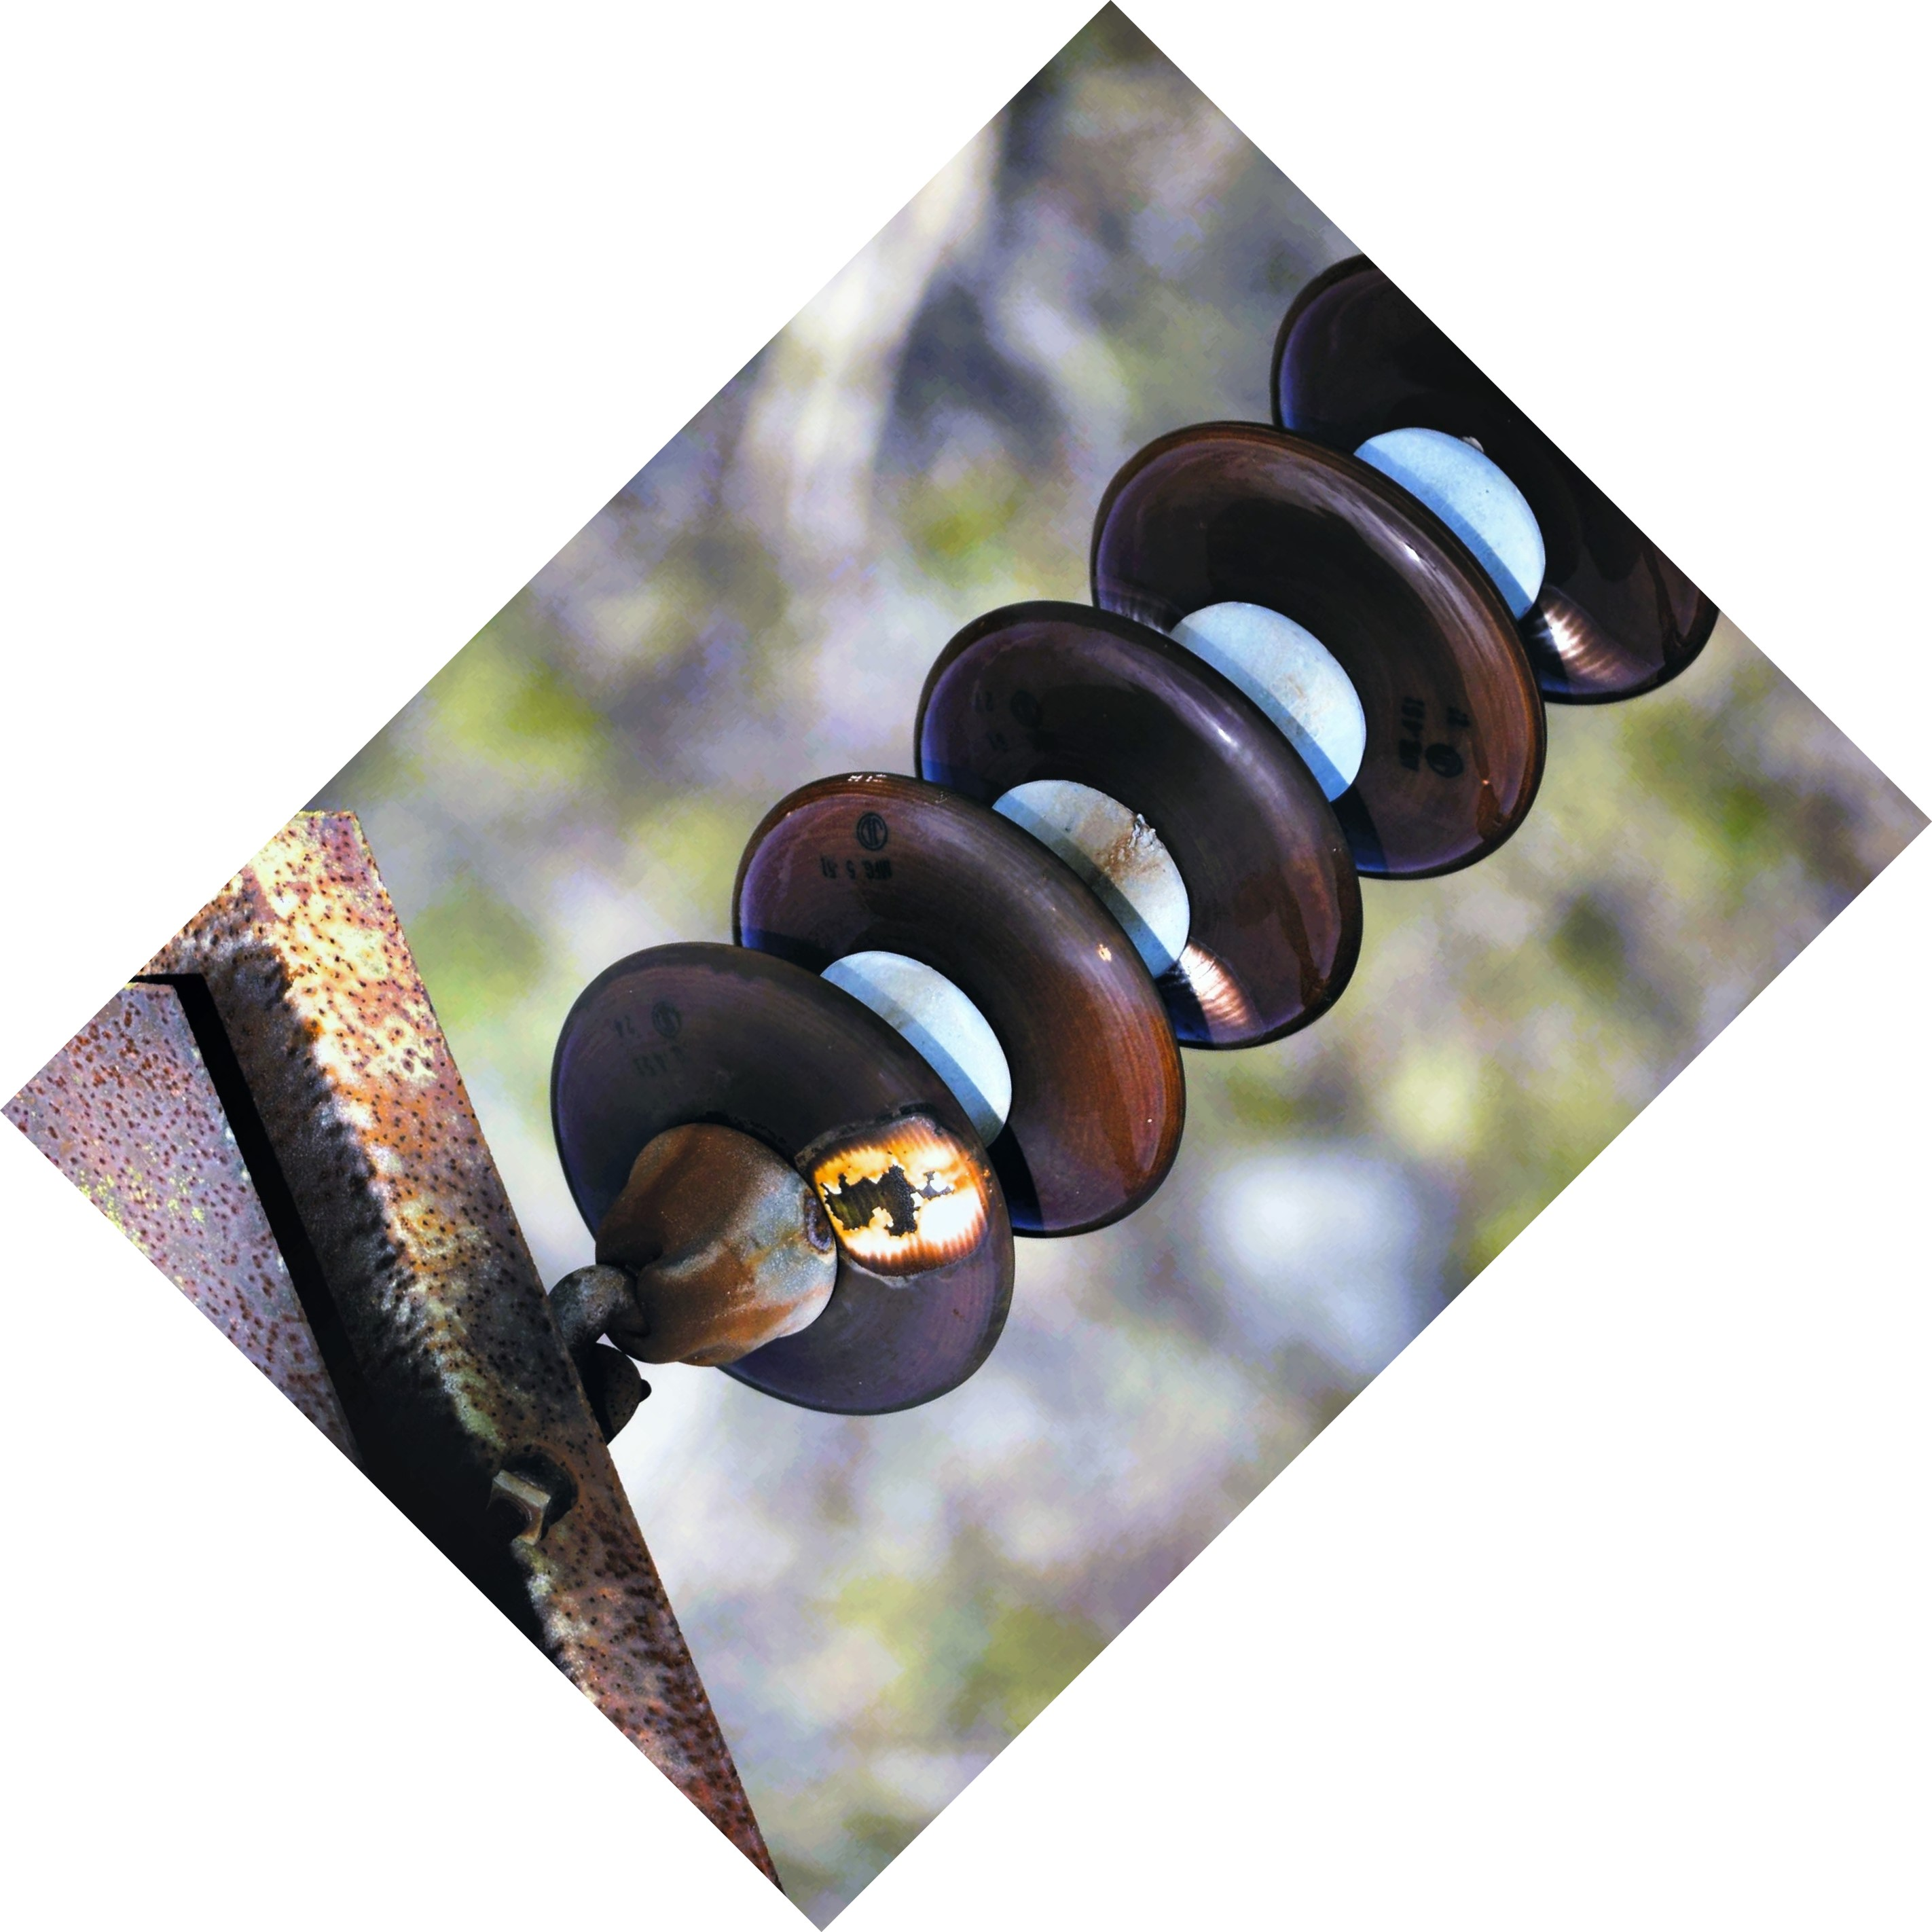Insulator flashover: (533, 932, 1021, 1445)
